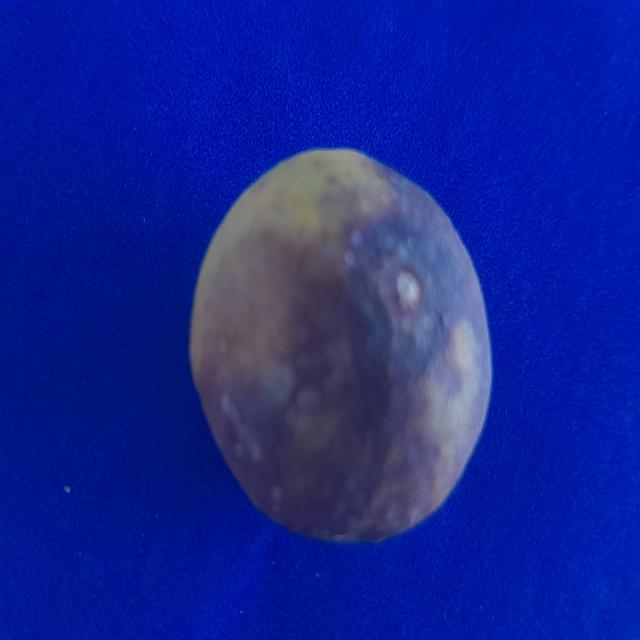black spot: (184, 151, 488, 543)
